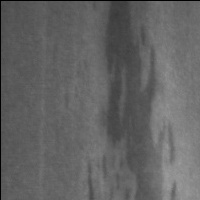inclusion: (100, 2, 179, 200), (82, 152, 99, 200)
